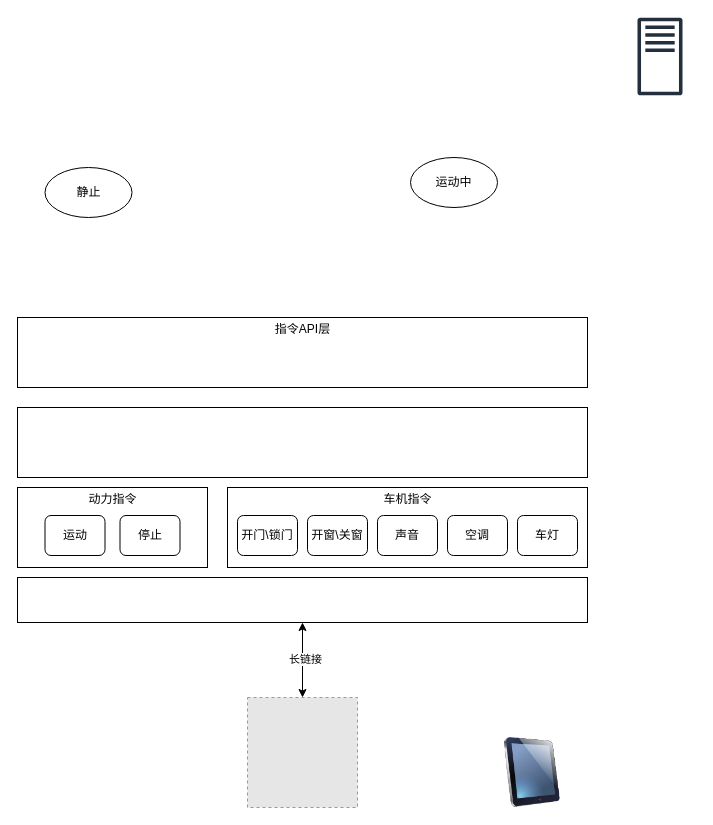
Image size: 713x825. Some labels were removed from this diagram. Grey dashed boxes stand in for pictures. Here are the shapes that lost their labels. From the top down, the box of each, then its label:
(637, 17, 682, 95): 业务交互服务
(16, 316, 588, 388): 封装好的指令，例如：发车指令、开始送驾指令
(16, 406, 588, 478): 指令组合层 例如：开始发车行为包含命令 关闭远光灯、开启近光灯、锁车门、车辆运动
(16, 576, 588, 622): 机器码转换器
